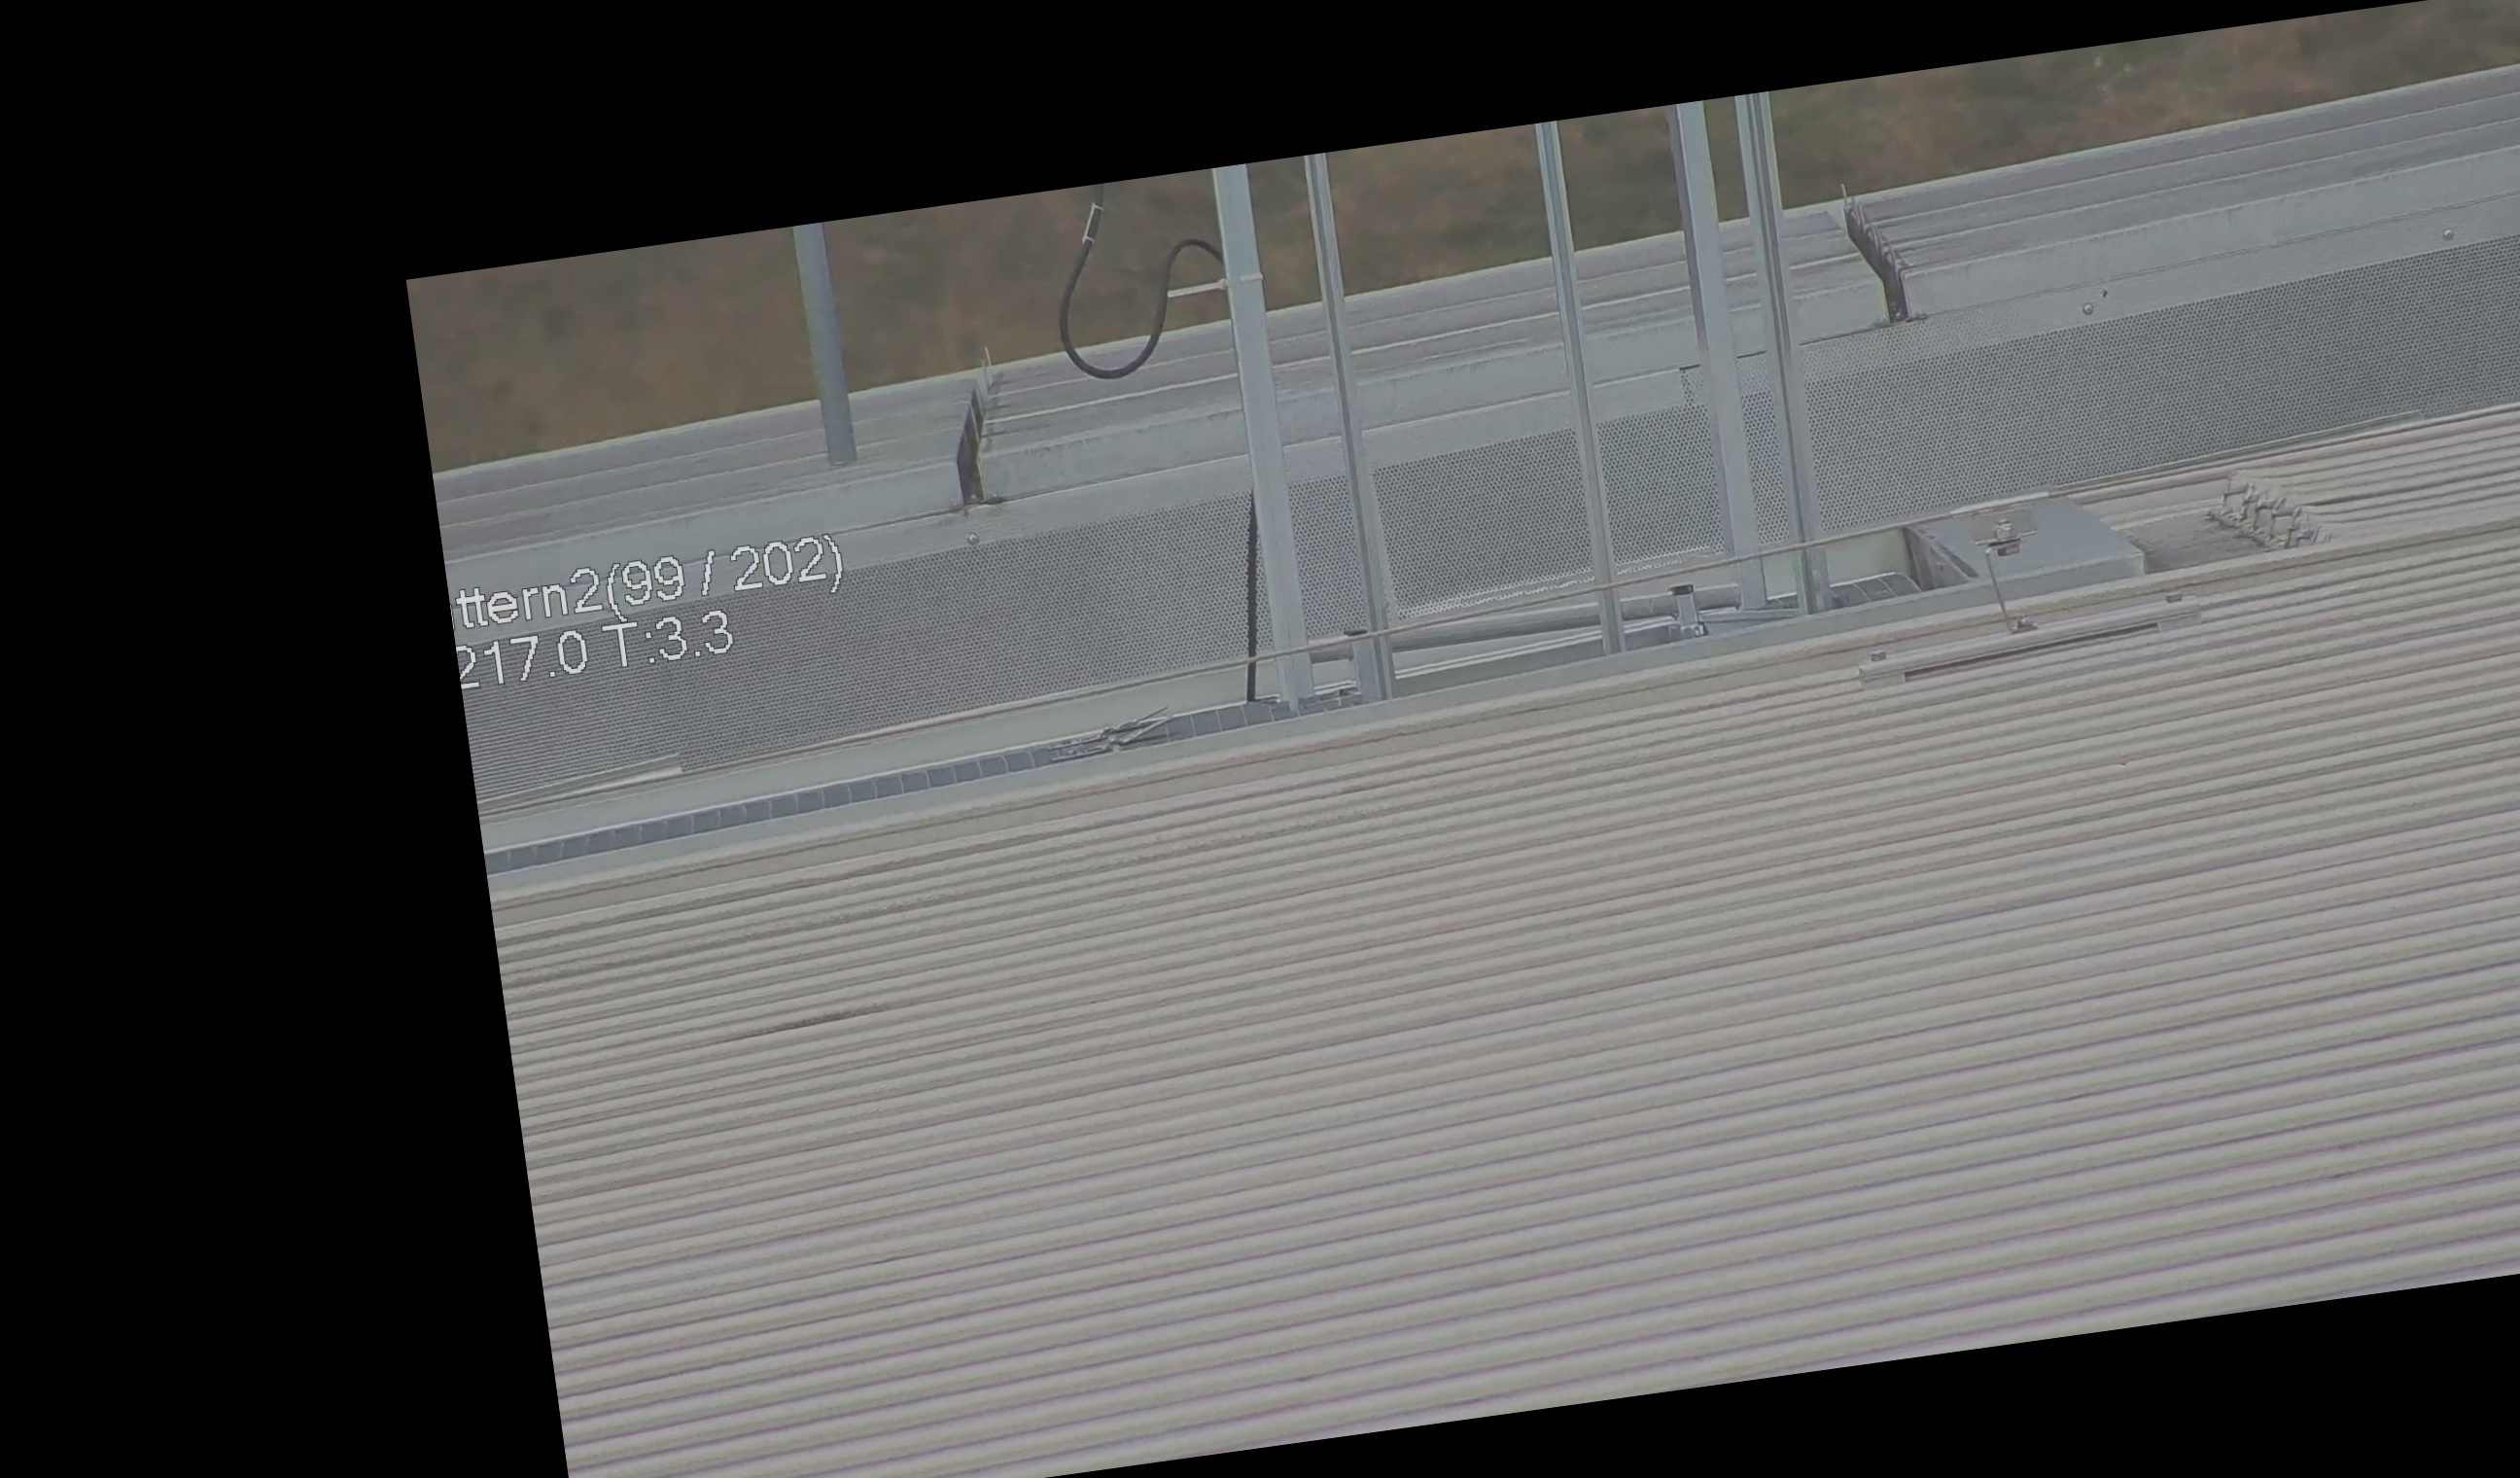Other: (1831, 176, 1934, 329)
